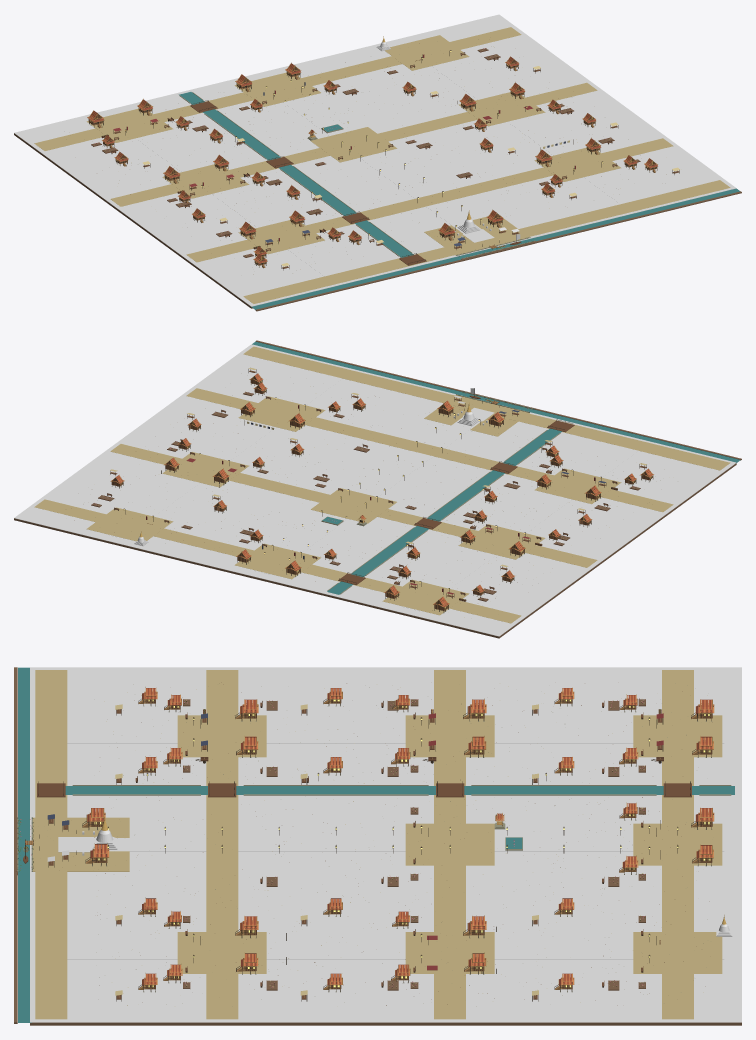
File: nakhon.glb
3 views of the same model, one above another, from view 1: azimuth 30°, elevation 25°; view 2: azimuth 150°, elevation 25°; view 3: azimuth 270°, elevation 25° (orthographic). The views are drawn at different scales.
Visible parts, largest first — view 1: Expanded ground · meadow, Regional avenues · sand, Regional avenues · paving, City canal · water, River extension · water, District square 4 · sand, District square 6 · sand, District square 7 · sand, District square 1 · sand, District square 3 · sand, District square 2 · sand, District square 0 · sand (+8 smaller); view 2: Expanded ground · meadow, Regional avenues · sand, Regional avenues · paving, City canal · water, Expanded ground · earth, River extension · water, District square 4 · sand, District square 6 · sand, District square 1 · sand, District square 7 · sand, District square 2 · sand, District square 5 · sand (+8 smaller); view 3: Expanded ground · meadow, Regional avenues · sand, Regional avenues · paving, City canal · water, District square 4 · sand, District square 6 · sand, River extension · water, District square 7 · sand, District square 1 · sand, District square 0 · sand, District square 5 · sand, District square 2 · sand (+8 smaller).
Part boxes in pixels (x1,y1,x2,y2): Expanded ground · meadow: [14, 14, 736, 306]; Regional avenues · sand: [34, 27, 730, 303]; Regional avenues · paving: [105, 39, 638, 276]; City canal · water: [179, 92, 413, 257]; River extension · water: [251, 188, 739, 309]; District square 4 · sand: [310, 127, 397, 162]; District square 6 · sand: [385, 35, 469, 70]; District square 7 · sand: [234, 72, 320, 106]; District square 1 · sand: [534, 147, 620, 181]; District square 3 · sand: [458, 92, 545, 126]; District square 2 · sand: [162, 164, 249, 198]; District square 0 · sand: [238, 220, 324, 254]; Expanded ground · meadow: [14, 344, 736, 636]; Regional avenues · sand: [34, 346, 730, 623]; Regional avenues · paving: [105, 374, 638, 610]; City canal · water: [327, 428, 561, 594]; Expanded ground · earth: [14, 463, 736, 638]; River extension · water: [252, 341, 740, 463]; District square 4 · sand: [311, 488, 396, 523]; District square 6 · sand: [86, 507, 173, 541]; District square 1 · sand: [238, 396, 325, 431]; District square 7 · sand: [234, 543, 321, 579]; District square 2 · sand: [458, 524, 545, 559]; District square 5 · sand: [382, 579, 469, 615]; Expanded ground · meadow: [30, 667, 741, 1022]; Regional avenues · sand: [35, 670, 693, 1019]; Regional avenues · paving: [67, 729, 724, 959]; City canal · water: [65, 786, 734, 794]; District square 4 · sand: [405, 823, 494, 865]; District square 6 · sand: [633, 932, 722, 973]; River extension · water: [18, 667, 31, 1022]; District square 7 · sand: [633, 823, 722, 865]; District square 1 · sand: [177, 932, 266, 973]; District square 0 · sand: [177, 715, 266, 757]; District square 5 · sand: [633, 715, 722, 757]; District square 2 · sand: [405, 715, 494, 757].
Size of the model in its own units: 236 by 10.16 by 204.
